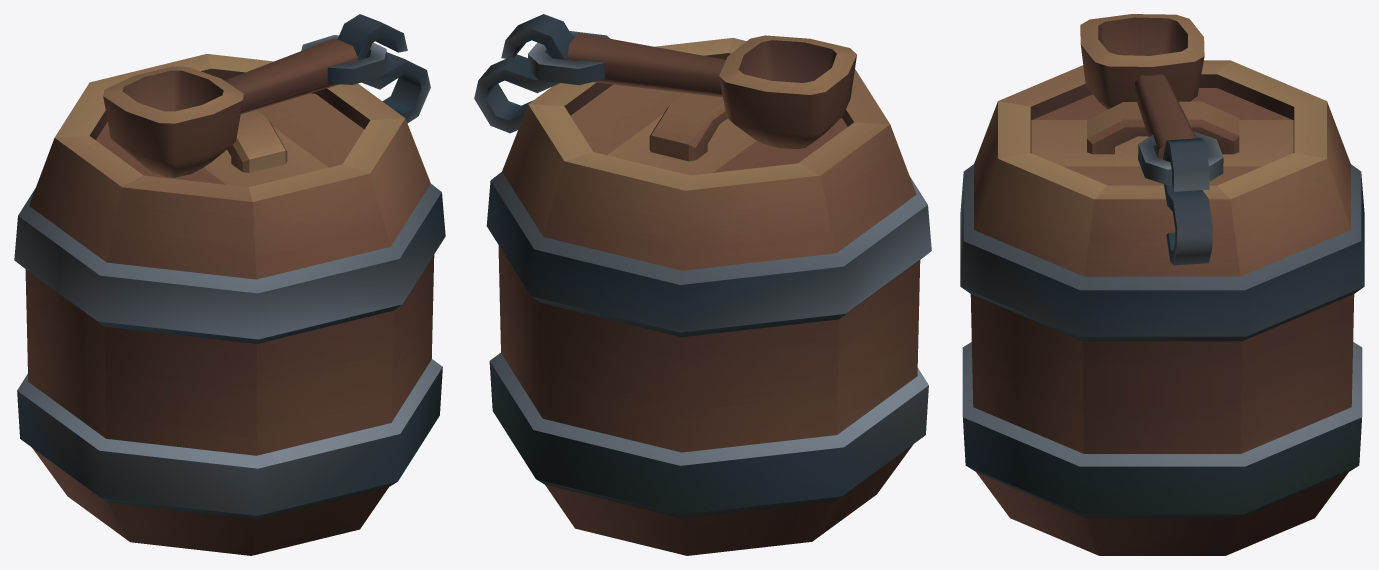
File: barrel_water.fbx
3 views of the same model, side by side, from view 1: azimuth 30°, elevation 25°; view 2: azimuth 150°, elevation 25°; view 3: azimuth 270°, elevation 25° (orthographic). The views are drawn at different scales.
Visible parts, largest first — view 1: barrel_water; view 2: barrel_water; view 3: barrel_water.
Part boxes in pixels (left/top/right/bottom): barrel_water: left=14, top=14, right=445, bottom=555; barrel_water: left=474, top=14, right=931, bottom=555; barrel_water: left=960, top=14, right=1364, bottom=555.
Size of the model in its own units: 102 by 108 by 93.15.
